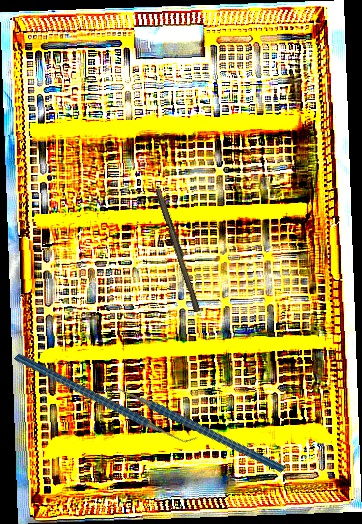Chopper: (97, 335, 286, 524), (13, 303, 200, 492)
Scalpel Handle: (152, 187, 205, 313)
